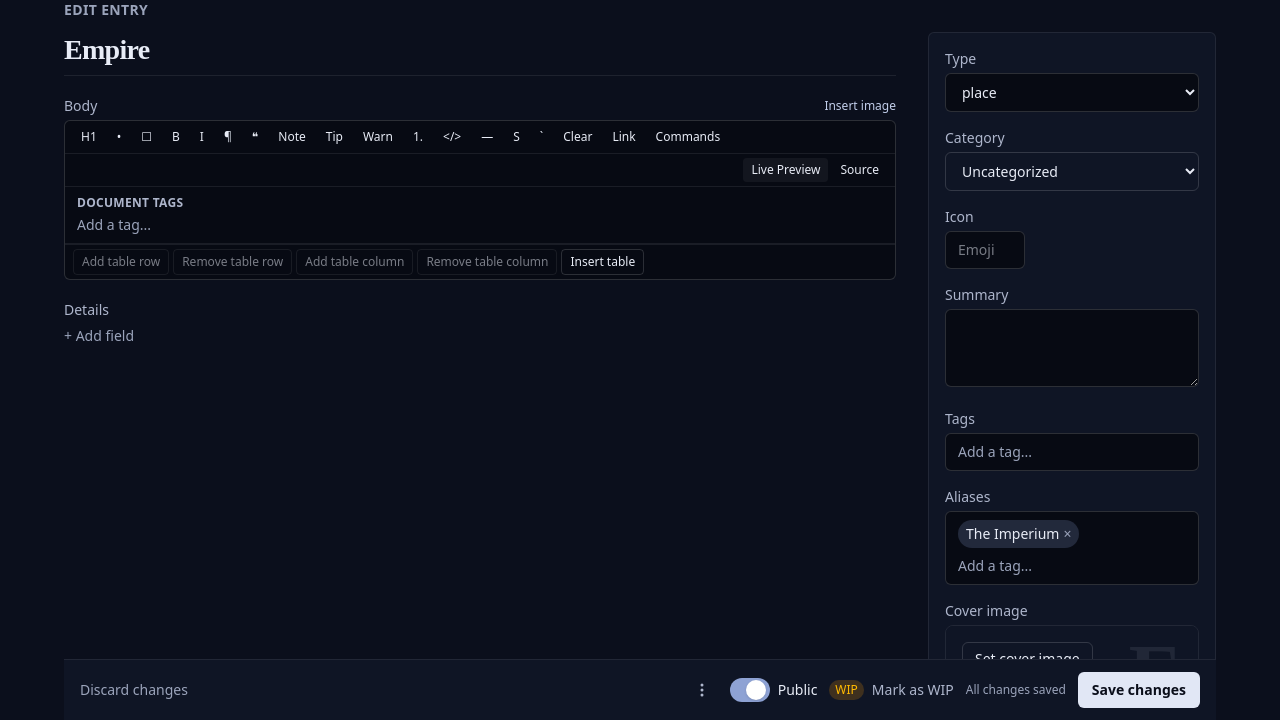
Test: EntryEditor rename-propagation two-phase save › D-08: rename with preview affectedLinks=3 shows ConfirmDialog with link count before any commit
Check: the button "Save changes" is shown, box [1078,672,1200,708]
Change the title to trigger propagation
Replace the text in the field named "title" with "Imperium": x=480, y=54 [64,32,896,76]
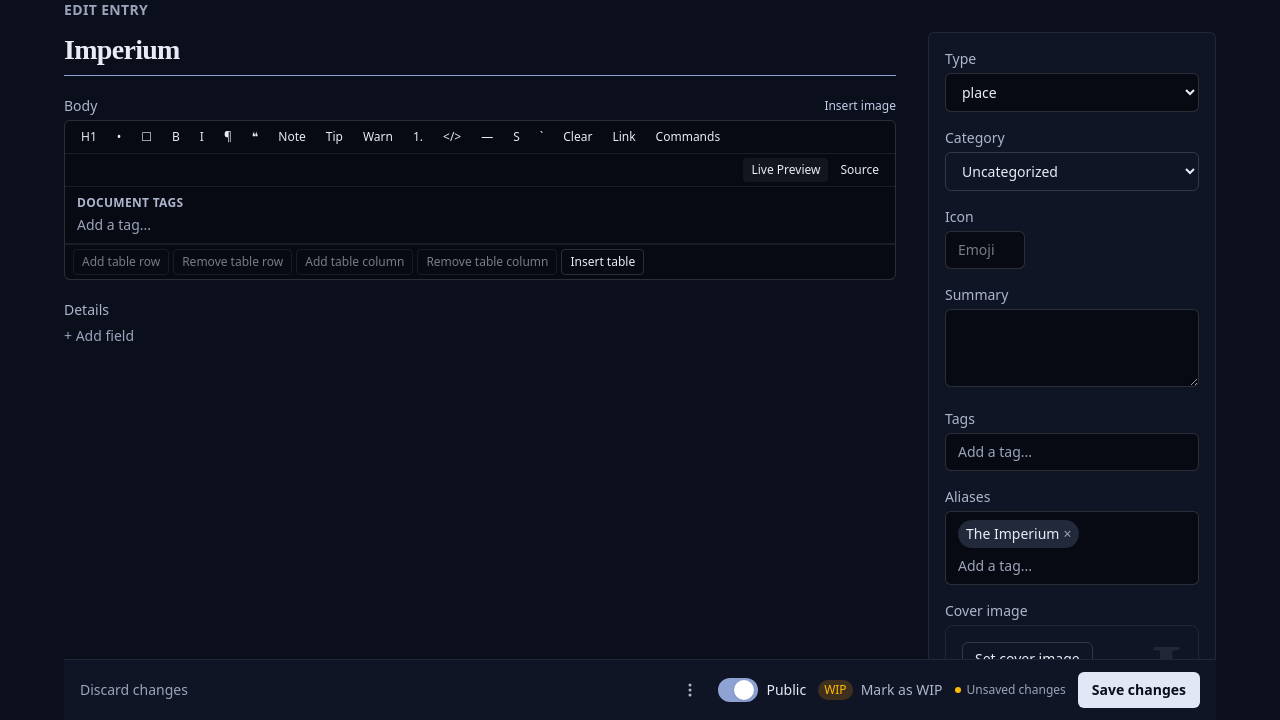
Submit the form
Click the button "Save changes": x=1139, y=690 [1078,672,1200,708]
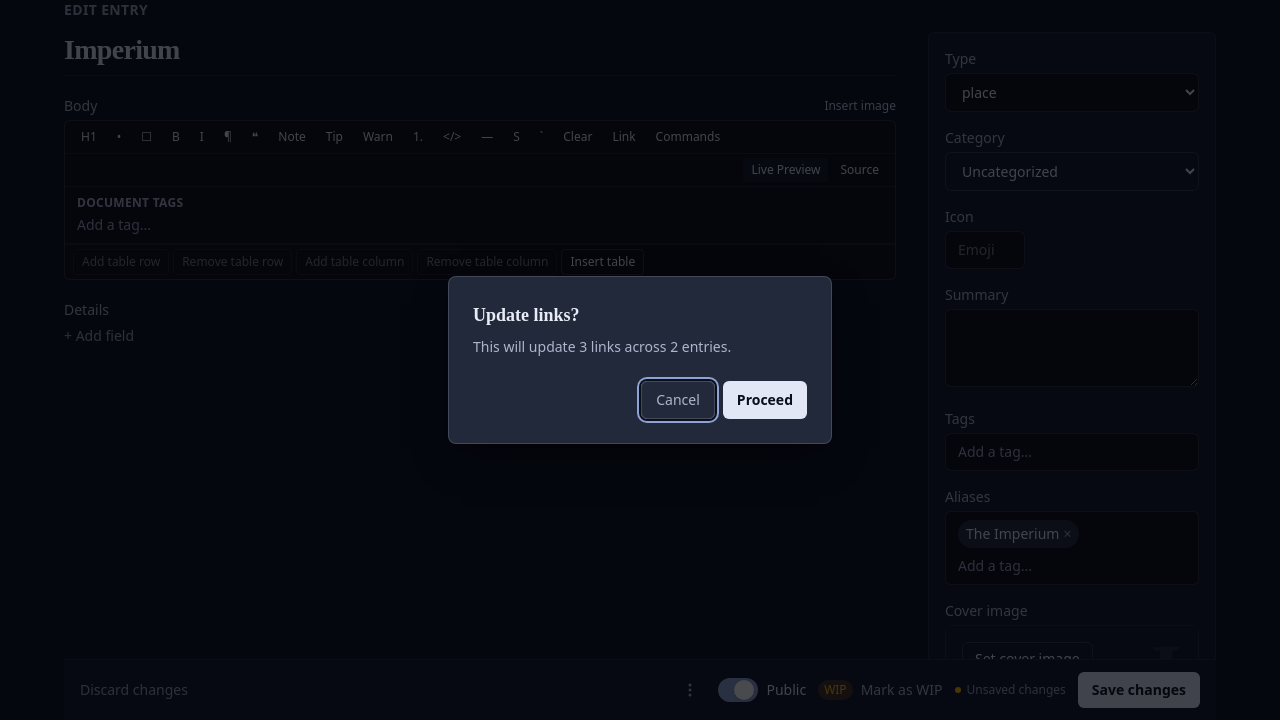
Check: the dialog is shown, box [448,276,832,444]
Check: the text "This will update 3 links across 2 entries." is shown, box [473,337,731,356]
Check: the button "Proceed" is shown, box [723,381,807,419]
